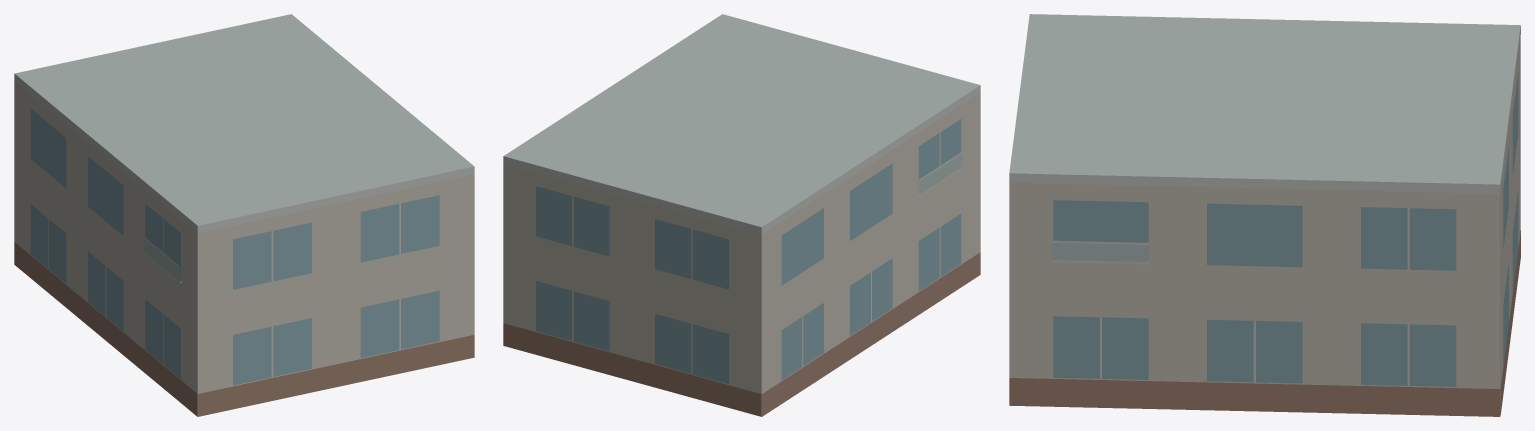
The model's file is survey-upis-32803817.glb.
3 views of the same model, side by side, from view 1: azimuth 30°, elevation 25°; view 2: azimuth 150°, elevation 25°; view 3: azimuth 270°, elevation 25° (orthographic). The views are drawn at different scales.
Visible parts, largest first — view 1: survey-upis-32803817.tmp; view 2: survey-upis-32803817.tmp; view 3: survey-upis-32803817.tmp.
Boxes of the visible parts, bbox=[...] form: survey-upis-32803817.tmp: bbox=[14, 14, 474, 416]; survey-upis-32803817.tmp: bbox=[503, 14, 980, 416]; survey-upis-32803817.tmp: bbox=[1009, 14, 1520, 416].
Bounding box in the file's own units: 9.61 × 6.1 × 12.18.
